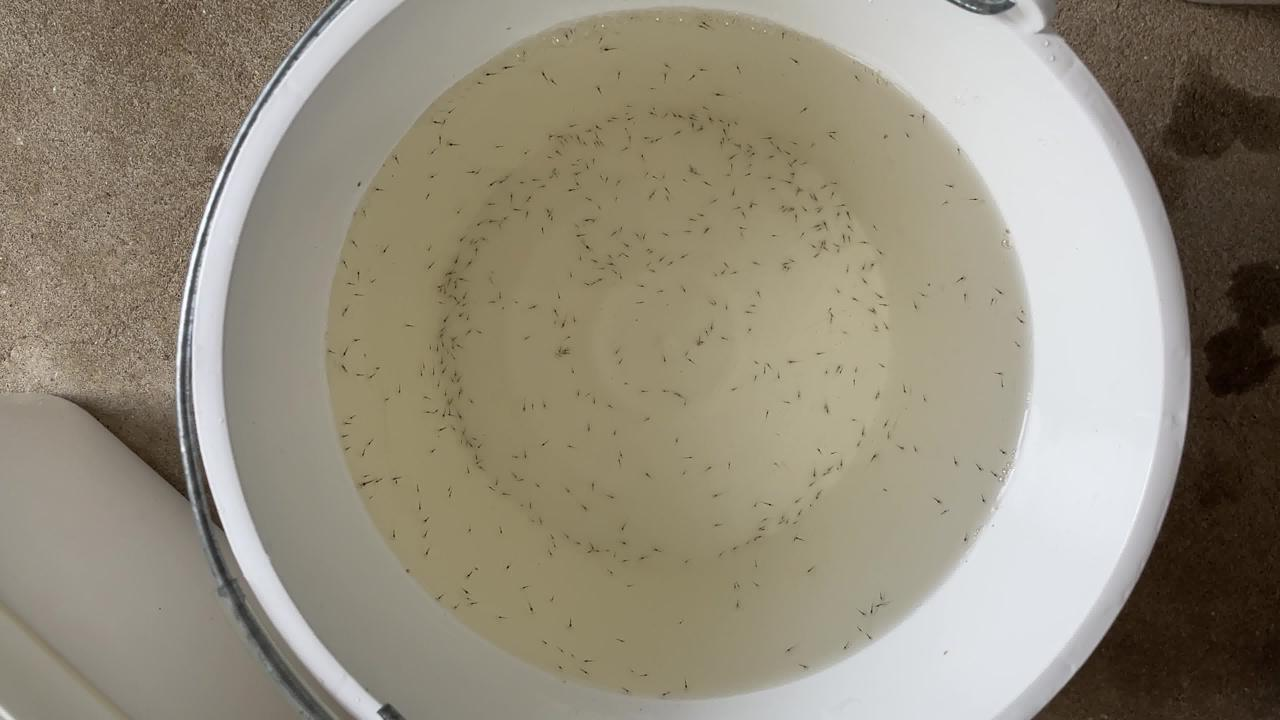shrimp: (783, 642, 795, 650), (794, 661, 806, 669), (840, 643, 852, 651), (863, 632, 875, 640), (853, 627, 865, 635), (851, 607, 863, 615), (866, 604, 878, 612), (871, 601, 883, 609), (875, 591, 887, 599), (959, 532, 971, 540), (938, 510, 950, 518), (934, 498, 946, 506), (977, 492, 989, 500), (987, 469, 999, 477), (970, 459, 982, 467), (942, 458, 954, 466), (998, 450, 1010, 458), (950, 456, 962, 464), (911, 444, 923, 452), (895, 442, 907, 450), (864, 453, 876, 461), (851, 440, 863, 448), (856, 426, 868, 434), (882, 417, 894, 425), (881, 427, 893, 435), (898, 384, 910, 392), (917, 394, 929, 402), (868, 391, 880, 399), (843, 378, 855, 386), (850, 363, 862, 371), (874, 362, 886, 370), (878, 321, 890, 329), (870, 328, 882, 336), (870, 319, 882, 327), (863, 306, 875, 314), (868, 306, 880, 314), (875, 301, 887, 309), (871, 291, 883, 299), (848, 293, 860, 301), (832, 286, 844, 294), (859, 276, 871, 284), (843, 265, 855, 273), (858, 259, 870, 267), (869, 262, 881, 270), (877, 246, 889, 254), (861, 240, 873, 248), (867, 223, 879, 231), (845, 234, 857, 242), (838, 232, 850, 240), (830, 239, 842, 247), (831, 245, 843, 253), (806, 240, 818, 248), (808, 251, 820, 259), (817, 246, 829, 254), (817, 235, 829, 243), (787, 256, 799, 264), (780, 257, 792, 265), (777, 262, 789, 270), (783, 265, 795, 273), (799, 231, 811, 239), (810, 227, 822, 235), (809, 221, 821, 229), (815, 221, 827, 229), (831, 209, 843, 217), (840, 211, 852, 219), (834, 202, 846, 210), (824, 191, 836, 199), (818, 182, 830, 190), (826, 178, 838, 186), (809, 203, 821, 211), (812, 207, 824, 215), (799, 204, 811, 212), (789, 212, 801, 220), (786, 202, 798, 210), (779, 206, 791, 214), (774, 200, 786, 208), (809, 190, 821, 198), (802, 190, 814, 198), (794, 186, 806, 194), (782, 177, 794, 185), (763, 173, 775, 181), (765, 182, 777, 190), (785, 169, 797, 177), (797, 159, 809, 167), (788, 154, 800, 162), (785, 160, 797, 168), (764, 150, 776, 158), (760, 133, 772, 141), (765, 136, 777, 144), (771, 142, 783, 150), (779, 149, 791, 157), (786, 137, 798, 145), (803, 139, 815, 147), (823, 134, 835, 142), (824, 126, 836, 134), (799, 106, 811, 114), (732, 61, 744, 69), (711, 89, 723, 97), (699, 101, 711, 109), (704, 115, 716, 123), (712, 115, 724, 123), (722, 118, 734, 126), (730, 115, 742, 123), (718, 123, 730, 131), (717, 130, 729, 138), (713, 136, 725, 144), (720, 131, 732, 139), (728, 137, 740, 145), (744, 141, 756, 149), (739, 143, 751, 151), (744, 149, 756, 157), (725, 149, 737, 157), (724, 160, 736, 168), (743, 159, 755, 167), (743, 167, 755, 175), (718, 167, 730, 175), (728, 185, 740, 193), (731, 200, 743, 208), (738, 210, 750, 218), (741, 201, 753, 209), (745, 200, 757, 208), (699, 177, 711, 185), (706, 194, 718, 202), (686, 167, 698, 175), (675, 176, 687, 184), (658, 170, 670, 178), (647, 171, 659, 179), (632, 152, 644, 160), (647, 189, 659, 197), (659, 192, 671, 200), (660, 184, 672, 192), (651, 133, 663, 141), (646, 136, 658, 144), (639, 131, 651, 139), (668, 129, 680, 137), (695, 125, 707, 133), (687, 122, 699, 130), (686, 109, 698, 117), (685, 115, 697, 123), (676, 112, 688, 120), (668, 108, 680, 116), (659, 111, 671, 119), (646, 102, 658, 110), (647, 107, 659, 115), (622, 100, 634, 108), (620, 108, 632, 116), (623, 115, 635, 123), (619, 121, 631, 129), (623, 132, 635, 140), (620, 143, 632, 151), (608, 111, 620, 119), (600, 115, 612, 123), (593, 120, 605, 128), (589, 130, 601, 138), (597, 137, 609, 145), (592, 137, 604, 145), (587, 140, 599, 148), (581, 126, 593, 134), (568, 121, 580, 129), (573, 131, 585, 139), (557, 129, 569, 137), (545, 129, 557, 137), (559, 135, 571, 143), (553, 138, 565, 146), (553, 146, 565, 154), (543, 149, 555, 157), (521, 143, 533, 151), (494, 140, 506, 148), (461, 169, 473, 177), (469, 169, 481, 177), (484, 177, 496, 185), (493, 179, 505, 187), (501, 172, 513, 180), (515, 177, 527, 185), (529, 175, 541, 183), (544, 172, 556, 180), (550, 171, 562, 179), (549, 164, 561, 172), (570, 152, 582, 160), (567, 159, 579, 167), (581, 161, 593, 169), (585, 156, 597, 164), (572, 166, 584, 174), (570, 176, 582, 184), (567, 183, 579, 191), (595, 170, 607, 178), (601, 174, 613, 182), (608, 175, 620, 183), (609, 192, 621, 200), (580, 192, 592, 200), (592, 200, 604, 208), (580, 215, 592, 223), (590, 216, 602, 224), (569, 220, 581, 228), (534, 180, 546, 188), (522, 193, 534, 201), (505, 189, 517, 197), (509, 202, 521, 210), (521, 209, 533, 217), (538, 229, 550, 237), (540, 202, 552, 210), (544, 204, 556, 212), (546, 210, 558, 218), (482, 199, 494, 207), (501, 212, 513, 220), (485, 217, 497, 225), (490, 221, 502, 229), (470, 217, 482, 225), (453, 232, 465, 240), (463, 237, 475, 245), (468, 237, 480, 245), (476, 232, 488, 240), (471, 243, 483, 251), (450, 255, 462, 263), (426, 241, 438, 249), (426, 257, 438, 265), (464, 256, 476, 264), (444, 267, 456, 275), (442, 277, 454, 285), (433, 279, 445, 287), (433, 284, 445, 292), (437, 287, 449, 295), (450, 280, 462, 288), (457, 274, 469, 282), (442, 290, 454, 298), (447, 292, 459, 300), (432, 297, 444, 305), (457, 286, 469, 294), (459, 297, 471, 305), (451, 295, 463, 303), (439, 313, 451, 321), (452, 309, 464, 317), (460, 311, 472, 319), (461, 327, 473, 335), (470, 325, 482, 333), (436, 320, 448, 328), (437, 325, 449, 333), (436, 335, 448, 343), (424, 340, 436, 348), (430, 342, 442, 350), (449, 332, 461, 340), (444, 340, 456, 348), (453, 339, 465, 347), (448, 351, 460, 359), (436, 352, 448, 360), (425, 367, 437, 375), (417, 358, 429, 366), (413, 366, 425, 374), (439, 364, 451, 372), (431, 378, 443, 386), (420, 393, 432, 401), (421, 408, 433, 416), (431, 407, 443, 415), (438, 386, 450, 394), (444, 375, 456, 383), (448, 368, 460, 376), (454, 374, 466, 382), (454, 387, 466, 395), (445, 395, 457, 403), (464, 393, 476, 401), (453, 410, 465, 418), (447, 408, 459, 416), (434, 406, 446, 414), (433, 426, 445, 434), (443, 421, 455, 429), (484, 273, 496, 281), (486, 296, 498, 304), (493, 286, 505, 294), (510, 295, 522, 303), (496, 304, 508, 312), (528, 299, 540, 307), (521, 333, 533, 341), (573, 228, 585, 236), (580, 240, 592, 248), (573, 253, 585, 261), (564, 267, 576, 275), (554, 289, 566, 297), (548, 305, 560, 313), (548, 315, 560, 323), (555, 315, 567, 323), (570, 313, 582, 321), (559, 331, 571, 339), (551, 341, 563, 349), (549, 349, 561, 357), (557, 349, 569, 357), (560, 341, 572, 349), (567, 365, 579, 373), (586, 252, 598, 260), (595, 262, 607, 270), (590, 276, 602, 284), (609, 264, 621, 272), (616, 268, 628, 276), (604, 248, 616, 256), (613, 249, 625, 257), (622, 250, 634, 258), (620, 237, 632, 245), (608, 226, 620, 234), (614, 220, 626, 228), (630, 230, 642, 238), (638, 232, 650, 240), (660, 229, 672, 237), (680, 225, 692, 233), (685, 213, 697, 221), (694, 209, 706, 217), (699, 224, 711, 232), (735, 221, 747, 229), (735, 226, 747, 234), (767, 229, 779, 237), (677, 248, 689, 256), (664, 259, 676, 267), (655, 253, 667, 261), (643, 249, 655, 257), (642, 243, 654, 251), (643, 258, 655, 266), (644, 264, 656, 272), (636, 281, 648, 289), (632, 296, 644, 304), (578, 277, 590, 285), (651, 285, 663, 293), (674, 288, 686, 296), (703, 269, 715, 277), (717, 267, 729, 275), (718, 257, 730, 265), (728, 269, 740, 277), (751, 257, 763, 265), (754, 287, 766, 295), (746, 298, 758, 306), (740, 308, 752, 316), (739, 325, 751, 333), (722, 302, 734, 310), (709, 296, 721, 304), (704, 320, 716, 328), (718, 334, 730, 342), (699, 327, 711, 335), (695, 334, 707, 342), (681, 345, 693, 353), (683, 359, 695, 367), (655, 351, 667, 359), (610, 345, 622, 353), (614, 356, 626, 364), (517, 403, 529, 411), (525, 401, 537, 409), (535, 400, 547, 408), (571, 387, 583, 395), (581, 388, 593, 396), (589, 394, 601, 402), (603, 402, 615, 410), (617, 378, 629, 386), (634, 387, 646, 395), (656, 384, 668, 392), (670, 388, 682, 396), (678, 397, 690, 405), (637, 415, 649, 423), (581, 419, 593, 427), (608, 426, 620, 434), (614, 444, 626, 452), (610, 460, 622, 468), (751, 355, 763, 363), (727, 384, 739, 392), (746, 377, 758, 385), (753, 368, 765, 376), (764, 359, 776, 367), (772, 370, 784, 378), (787, 358, 799, 366), (808, 349, 820, 357), (841, 328, 853, 336), (826, 314, 838, 322), (824, 307, 836, 315), (818, 366, 830, 374), (831, 362, 843, 370), (836, 365, 848, 373), (795, 389, 807, 397), (780, 396, 792, 404), (759, 409, 771, 417), (821, 404, 833, 412), (810, 447, 822, 455), (828, 446, 840, 454), (835, 458, 847, 466), (827, 461, 839, 469), (822, 466, 834, 474), (806, 465, 818, 473), (804, 479, 816, 487), (810, 489, 822, 497), (789, 493, 801, 501), (794, 507, 806, 515), (776, 510, 788, 518), (772, 518, 784, 526), (778, 518, 790, 526), (786, 518, 798, 526), (788, 532, 800, 540), (794, 535, 806, 543), (806, 565, 818, 573), (767, 458, 779, 466), (726, 462, 738, 470), (705, 463, 717, 471), (680, 452, 692, 460), (671, 440, 683, 448), (677, 472, 689, 480), (643, 472, 655, 480), (710, 489, 722, 497), (762, 500, 774, 508), (750, 499, 762, 507), (759, 516, 771, 524), (756, 523, 768, 531), (753, 531, 765, 539), (744, 535, 756, 543), (733, 542, 745, 550), (717, 548, 729, 556), (710, 519, 722, 527), (728, 580, 740, 588), (732, 579, 744, 587), (732, 599, 744, 607), (747, 580, 759, 588), (747, 558, 759, 566), (678, 554, 690, 562), (652, 547, 664, 555), (638, 550, 650, 558), (617, 556, 629, 564), (601, 567, 613, 575), (620, 582, 632, 590), (678, 679, 690, 687), (665, 689, 677, 697), (639, 673, 651, 681), (618, 685, 630, 693), (576, 666, 588, 674), (553, 665, 565, 673), (534, 636, 546, 644), (556, 647, 568, 655), (568, 650, 580, 658), (583, 655, 595, 663), (615, 637, 627, 645), (674, 616, 686, 624), (565, 618, 577, 626), (541, 593, 553, 601), (522, 602, 534, 610), (497, 611, 509, 619), (516, 582, 528, 590), (503, 563, 515, 571), (494, 521, 506, 529), (462, 523, 474, 531), (471, 566, 483, 574), (461, 569, 473, 577), (458, 582, 470, 590), (458, 592, 470, 600), (463, 598, 475, 606), (447, 602, 459, 610), (433, 593, 445, 601), (418, 548, 430, 556), (387, 531, 399, 539), (423, 528, 435, 536), (419, 513, 431, 521), (412, 501, 424, 509), (412, 486, 424, 494), (439, 483, 451, 491), (444, 491, 456, 499), (424, 443, 436, 451), (455, 424, 467, 432), (460, 436, 472, 444), (468, 431, 480, 439), (474, 439, 486, 447), (467, 451, 479, 459), (472, 455, 484, 463), (473, 464, 485, 472), (461, 464, 473, 472), (485, 485, 497, 493), (489, 476, 501, 484), (497, 490, 509, 498), (516, 500, 528, 508), (523, 500, 535, 508), (524, 515, 536, 523), (533, 513, 545, 521), (542, 530, 554, 538), (548, 536, 560, 544), (544, 543, 556, 551), (560, 529, 572, 537), (573, 537, 585, 545), (584, 541, 596, 549), (590, 545, 602, 553), (601, 544, 613, 552), (615, 535, 627, 543), (618, 522, 630, 530), (601, 493, 613, 501), (583, 480, 595, 488), (562, 483, 574, 491), (575, 500, 587, 508), (525, 478, 537, 486), (518, 454, 530, 462), (504, 450, 516, 458), (505, 468, 517, 476), (536, 439, 548, 447), (564, 442, 576, 450), (513, 474, 525, 482), (392, 472, 404, 480), (371, 475, 383, 483), (360, 483, 372, 491), (365, 494, 377, 502), (358, 470, 370, 478), (342, 446, 354, 454), (336, 432, 348, 440), (338, 420, 350, 428), (358, 449, 370, 457), (361, 437, 373, 445), (345, 414, 357, 422), (380, 396, 392, 404), (389, 387, 401, 395), (372, 360, 384, 368), (365, 370, 377, 378), (357, 370, 369, 378), (339, 365, 351, 373), (340, 347, 352, 355), (323, 346, 335, 354), (357, 336, 369, 344), (333, 307, 345, 315), (400, 319, 412, 327), (354, 291, 366, 299), (342, 278, 354, 286), (335, 258, 347, 266), (352, 266, 364, 274), (366, 276, 378, 284), (348, 237, 360, 245), (376, 245, 388, 253), (355, 205, 367, 213), (372, 185, 384, 193), (389, 156, 401, 164), (422, 192, 434, 200), (454, 207, 466, 215), (423, 170, 435, 178), (427, 150, 439, 158), (434, 132, 446, 140), (446, 139, 458, 147), (427, 118, 439, 126), (437, 121, 449, 129), (446, 107, 458, 115), (473, 79, 485, 87), (484, 70, 496, 78), (502, 62, 514, 70), (534, 68, 546, 76), (547, 74, 559, 82), (592, 85, 604, 93), (560, 33, 572, 41), (561, 28, 573, 36), (593, 35, 605, 43), (598, 43, 610, 51), (611, 69, 623, 77), (645, 84, 657, 92), (659, 72, 671, 80), (658, 59, 670, 67), (684, 74, 696, 82), (692, 67, 704, 75), (693, 21, 705, 29), (699, 16, 711, 24), (775, 30, 787, 38), (788, 53, 800, 61), (850, 71, 862, 79), (881, 132, 893, 140), (901, 133, 913, 141), (908, 109, 920, 117), (920, 112, 932, 120), (953, 144, 965, 152), (943, 180, 955, 188), (937, 199, 949, 207), (967, 196, 979, 204), (910, 299, 922, 307), (921, 290, 933, 298), (925, 282, 937, 290), (960, 271, 972, 279), (958, 291, 970, 299), (985, 296, 997, 304), (989, 284, 1001, 292), (1015, 307, 1027, 315), (1012, 311, 1024, 319), (1011, 338, 1023, 346), (995, 367, 1007, 375), (995, 380, 1007, 388), (849, 415, 861, 423), (878, 483, 890, 491), (519, 48, 531, 56), (726, 17, 738, 25)
